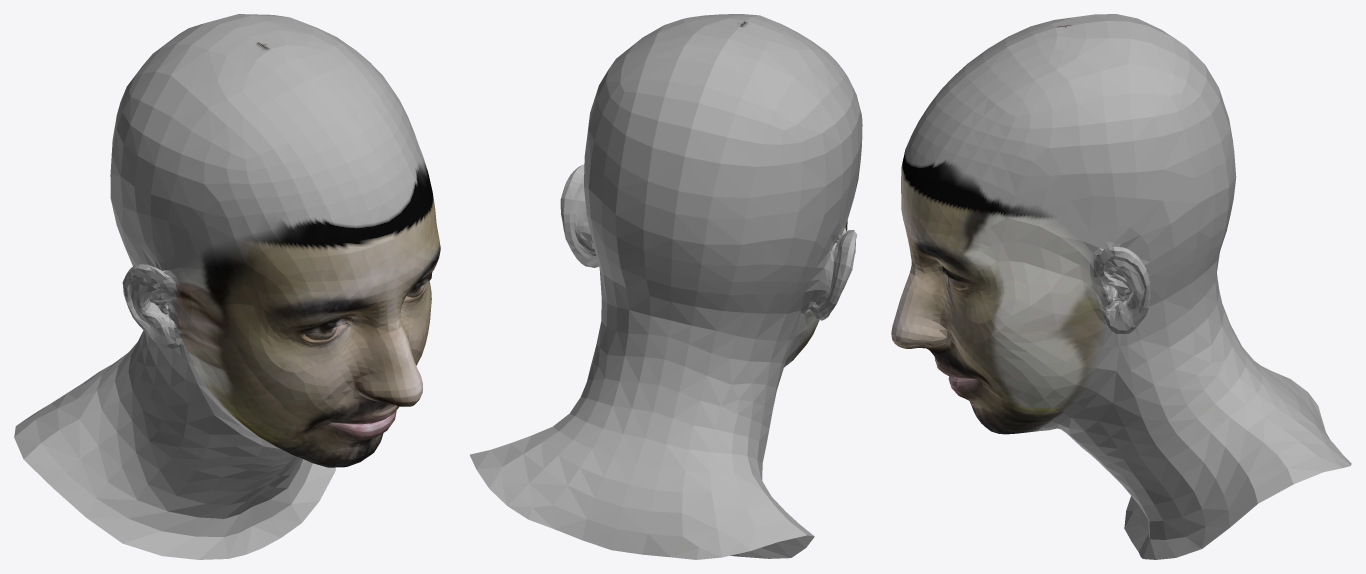
The model's file is ezgif-frame-065.obj.
3 renders of one model, left to right at view 1: azimuth 30°, elevation 25°; view 2: azimuth 150°, elevation 25°; view 3: azimuth 270°, elevation 25°, orthographic. The views are drawn at different scales.
Bounding box in the file's own units: 0.2059 × 0.3272 × 0.2674.
Materials: 1 (1 with a texture image).
